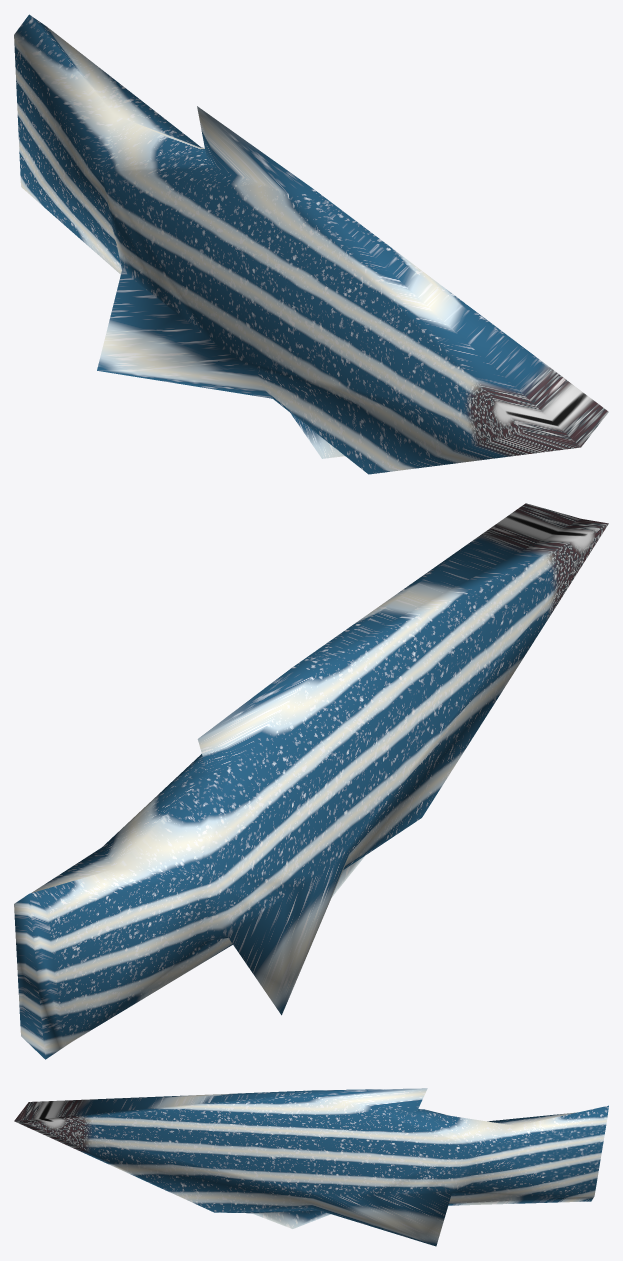
File: zebra danio LP.fbx
The picture shows the model from 3 angles, top to bottom: view 1: azimuth 30°, elevation 25°; view 2: azimuth 150°, elevation 25°; view 3: azimuth 270°, elevation 25°; orthographic projection. The views are drawn at different scales.
Parts seen in each view (by area): view 1: zebra danio.003; view 2: zebra danio.003; view 3: zebra danio.003.
Part boxes in pixels (left/top/right/bottom): zebra danio.003: left=14, top=14, right=608, bottom=474; zebra danio.003: left=14, top=503, right=608, bottom=1059; zebra danio.003: left=14, top=1088, right=608, bottom=1246.
Bounding box in the file's own units: 3.76 × 5.08 × 19.45.
Materials: 1 (1 with a texture image).
